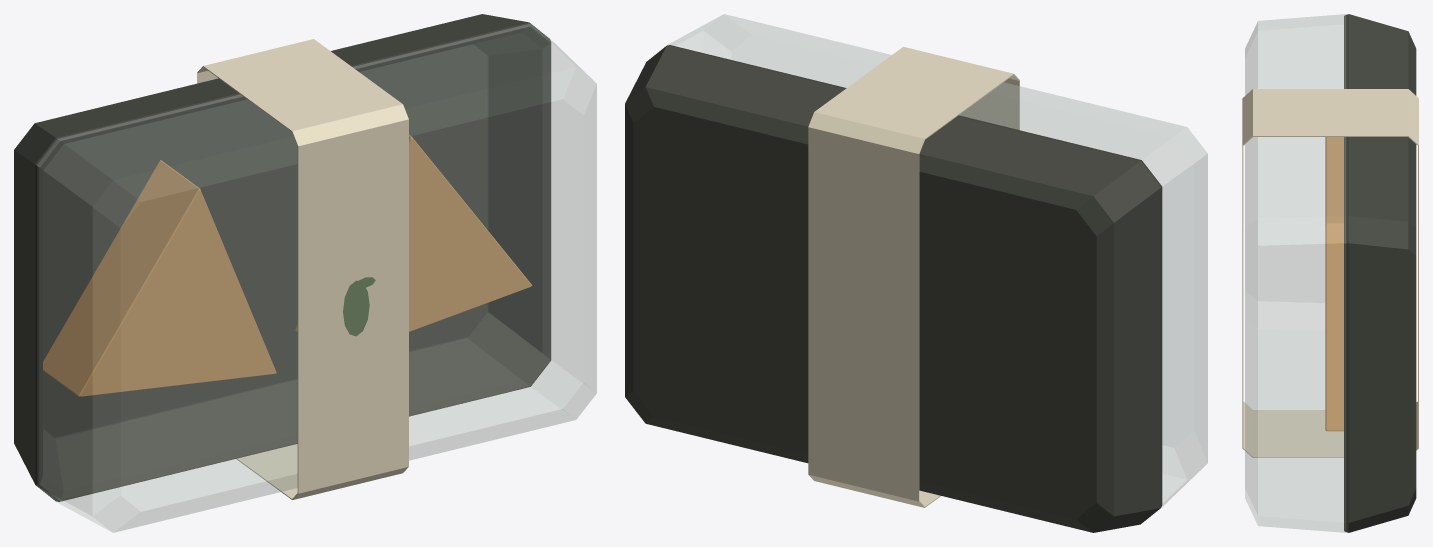
File: samosas.glb
The picture shows the model from 3 angles, left to right: view 1: azimuth 30°, elevation 25°; view 2: azimuth 150°, elevation 25°; view 3: azimuth 270°, elevation 25°; orthographic projection. The views are drawn at different scales.
Parts seen in each view (by area): view 1: samosas; view 2: samosas; view 3: samosas.
Part boxes in pixels (left/top/right/bottom): samosas: left=14, top=14, right=596, bottom=532; samosas: left=625, top=14, right=1207, bottom=532; samosas: left=1242, top=14, right=1418, bottom=532.
Size of the model in its own units: 0.2 by 0.137 by 0.0705.
